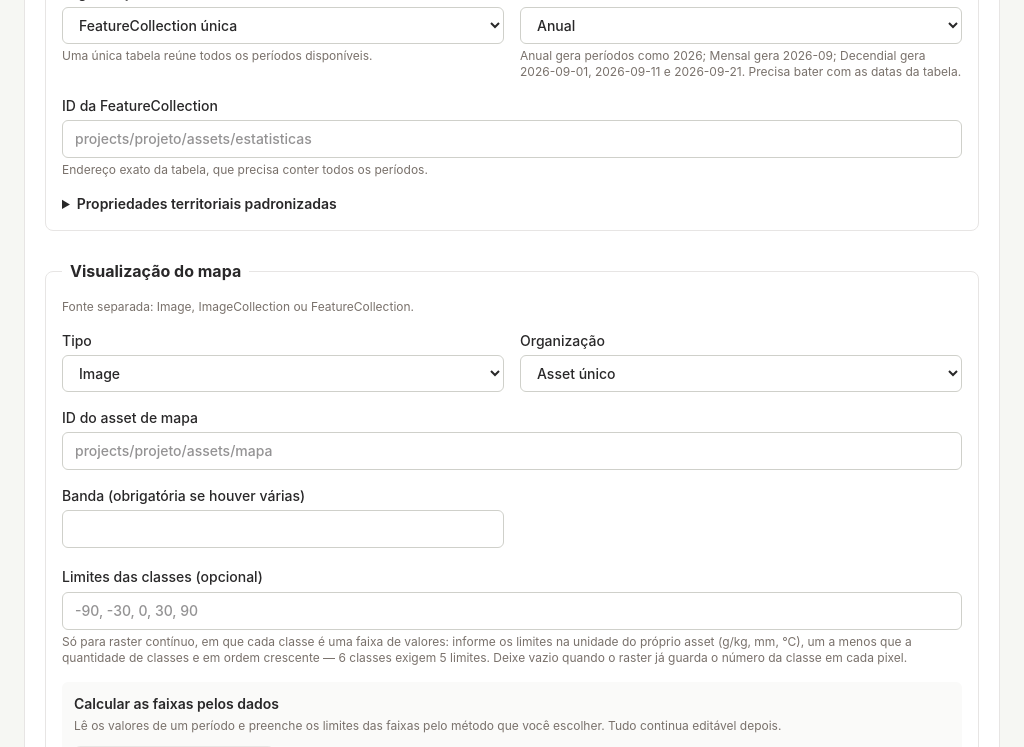
Scenario: IndexCatalogScreen v2 › opens the guide with the real ANA example and omits period exceptions
The width and height of the screenshot is (1024, 747).
(page scrolled)
Select "Template por período" in the dropdown labelled "Organização". click: (741, 374)
box: [520,355,962,392]
(page scrolled)
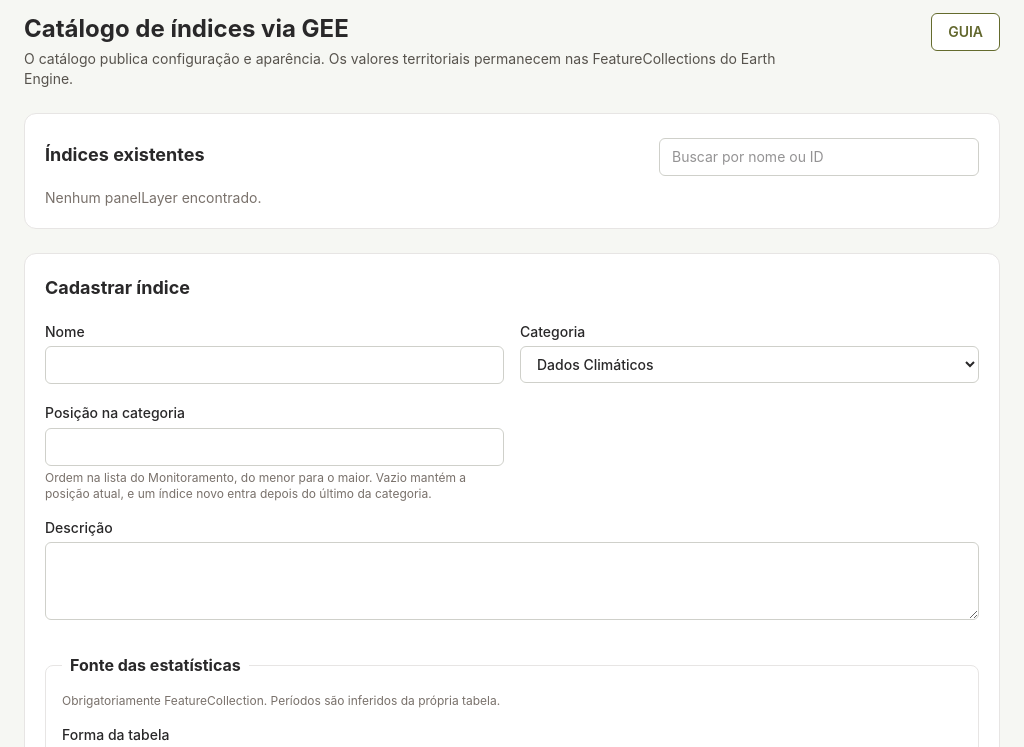
Click the button "GUIA". click: (966, 32)
box: [931,13,1000,51]
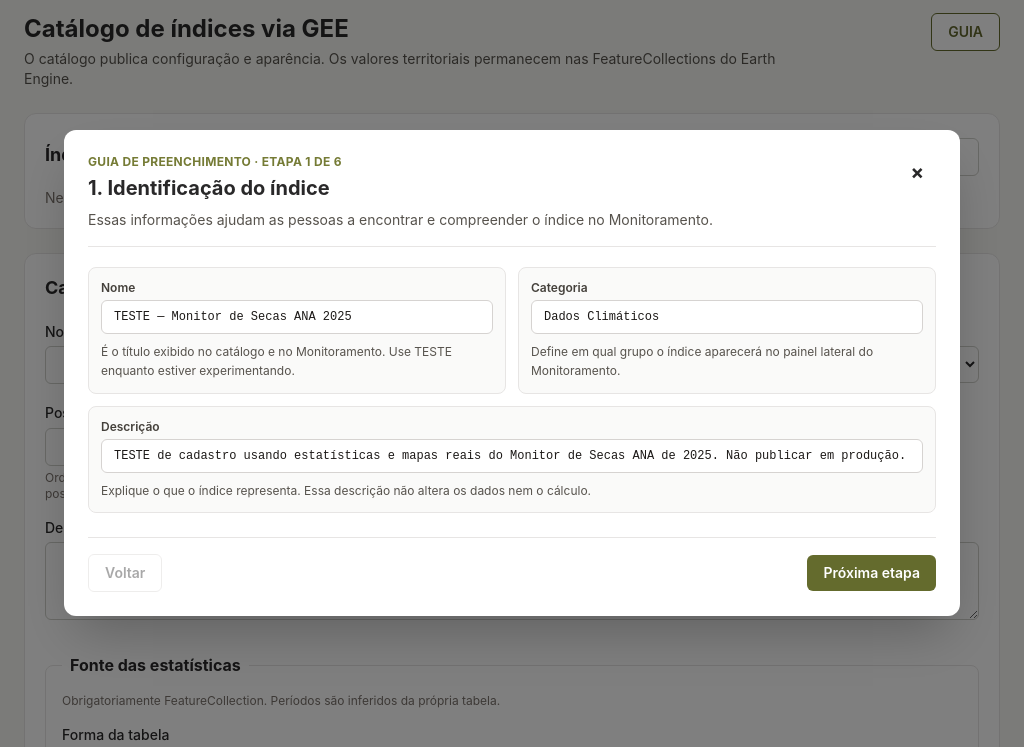
Expected: the dialog "1. Identificação do índice" is shown, [64,130,960,616]
Expected: the text "TESTE — Monitor de Secas ANA 2025" is shown, [101,300,493,334]
Click the button "Próxima etapa". click: (872, 573)
box: [807,555,936,591]
(page scrolled)
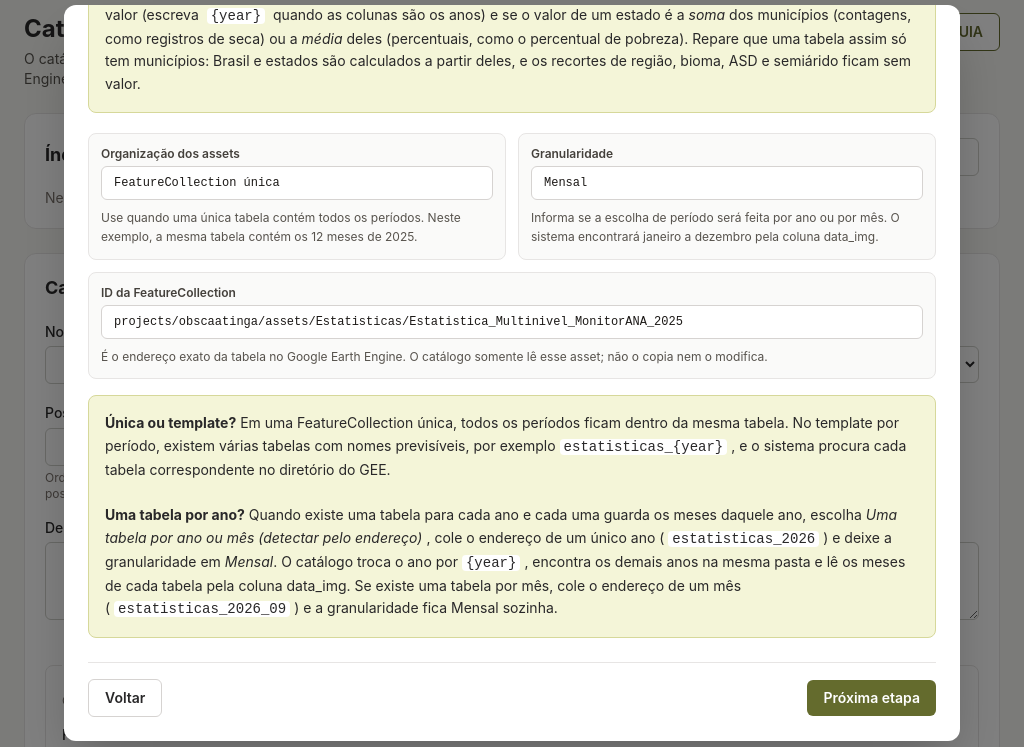
Expected: the text "projects/obscaatinga/assets/Estatisticas/Estatistica_Multinivel_MonitorANA_2025" is shown, [101,305,923,339]
Expected: the text "Única ou template?" is shown, [105,414,236,431]
